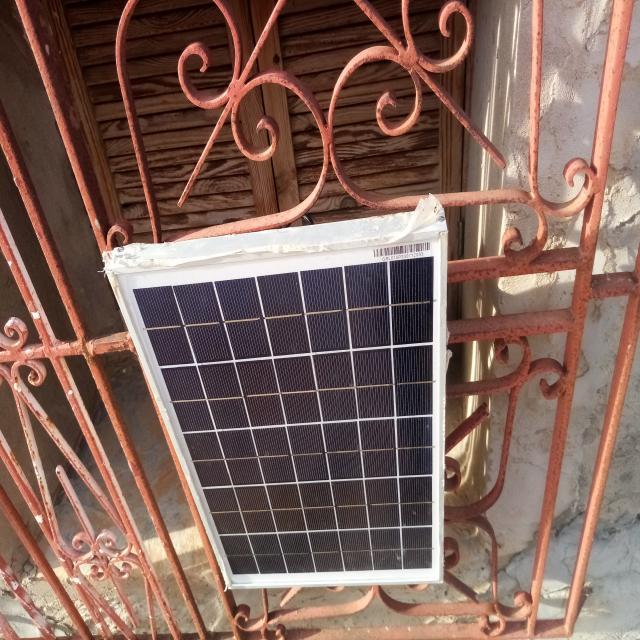no faulty: (112, 232, 445, 587)
